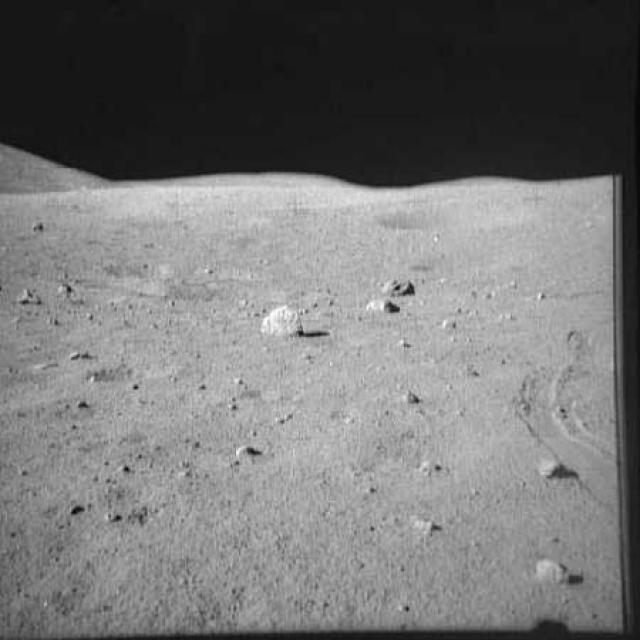crater: (381, 193, 544, 243), (2, 392, 118, 431), (22, 277, 172, 300), (87, 354, 179, 391), (188, 262, 270, 287), (97, 257, 175, 283)
rock: (256, 303, 313, 344), (527, 553, 578, 587), (402, 509, 454, 541), (378, 267, 422, 300), (363, 293, 408, 318), (537, 456, 580, 482), (232, 436, 262, 463), (394, 384, 426, 406), (418, 455, 446, 479), (63, 499, 88, 523), (434, 311, 461, 330), (15, 286, 40, 304), (391, 333, 420, 346), (115, 459, 135, 477), (29, 217, 52, 232), (54, 284, 78, 296)
